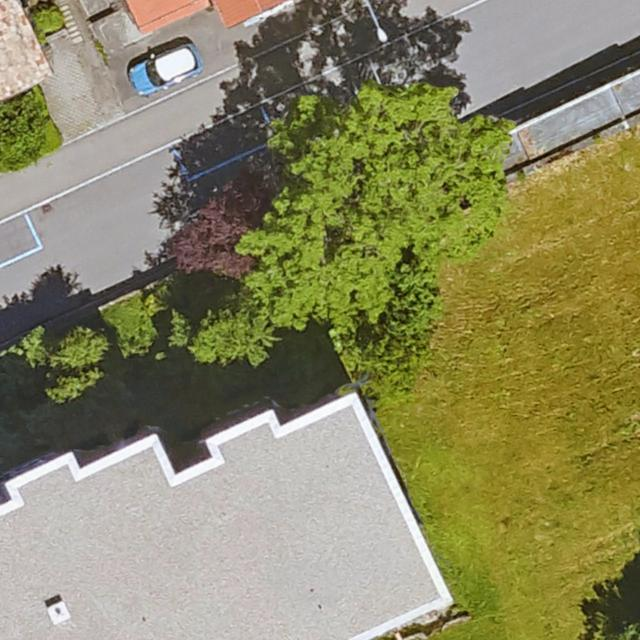tree: (251, 79, 511, 330), (171, 171, 281, 280), (16, 310, 110, 405), (179, 297, 296, 363)
